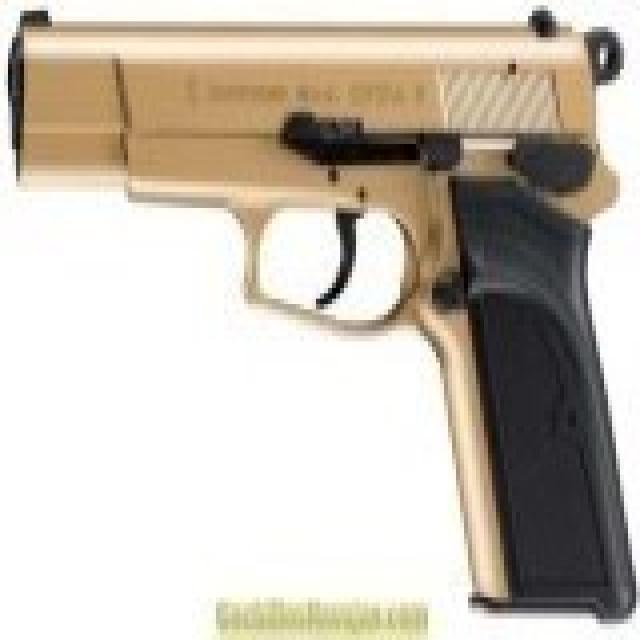Gun: (9, 14, 640, 631)
